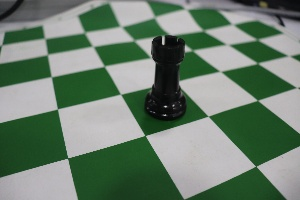black_rook: (139, 23, 195, 129)
